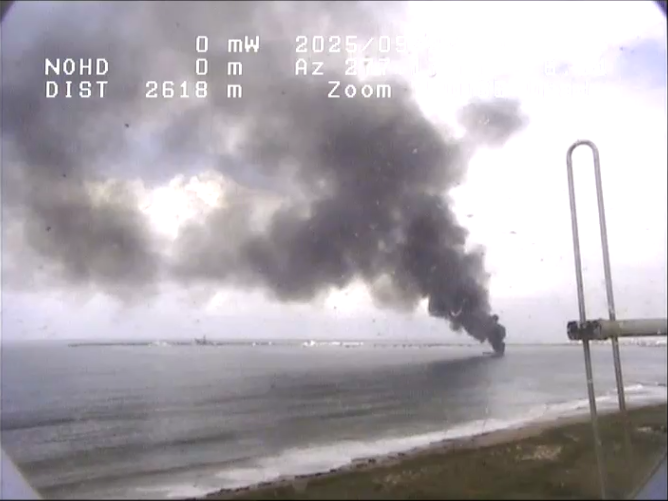FIRE_ONBOARD: (269, 77, 536, 378)
FISHING_VESSEL: (477, 343, 508, 363)
